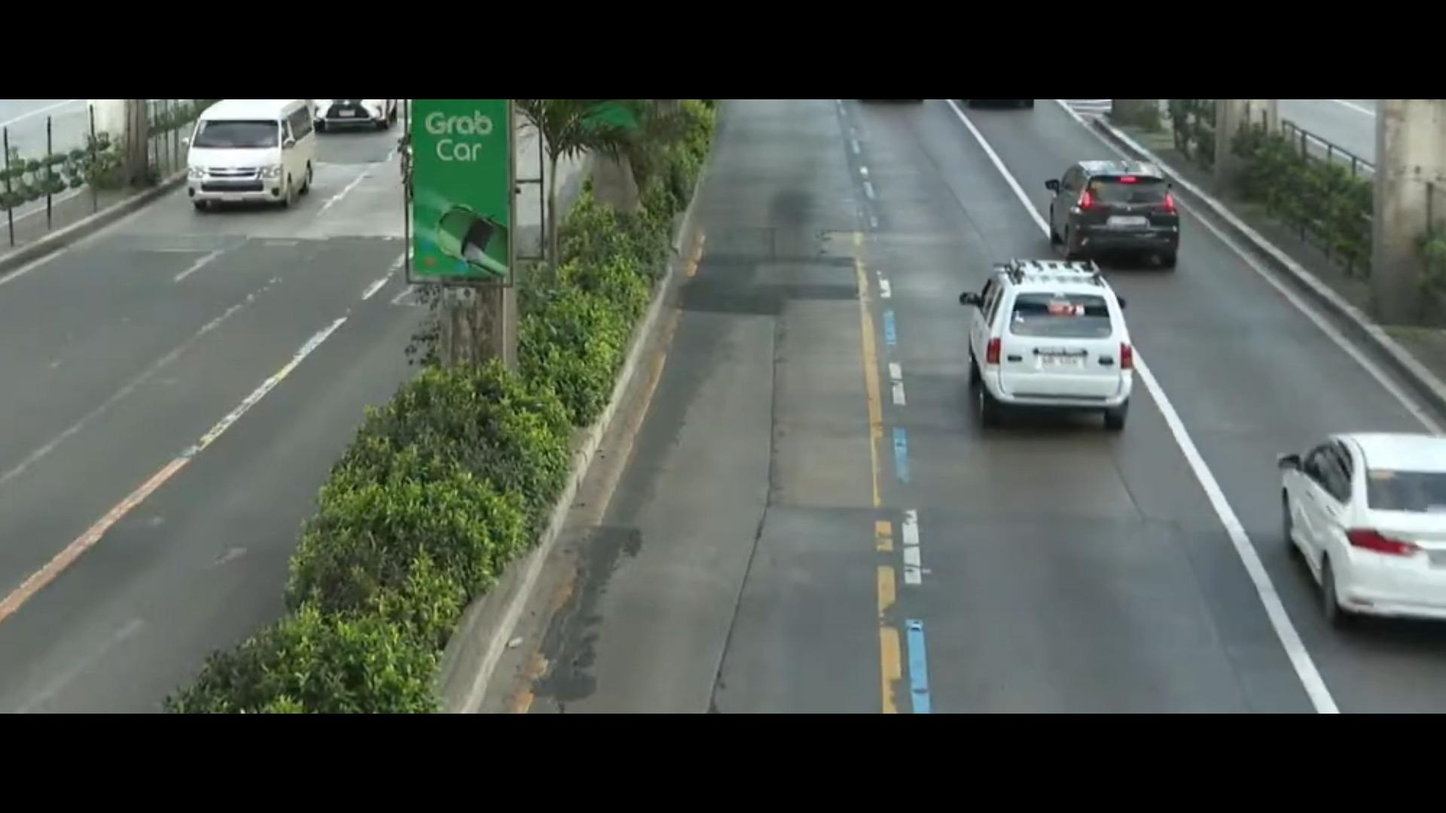SUV: (940, 254, 1157, 464), (1038, 134, 1205, 264)
Sedan: (1256, 399, 1446, 658)
Van: (183, 96, 319, 230)
